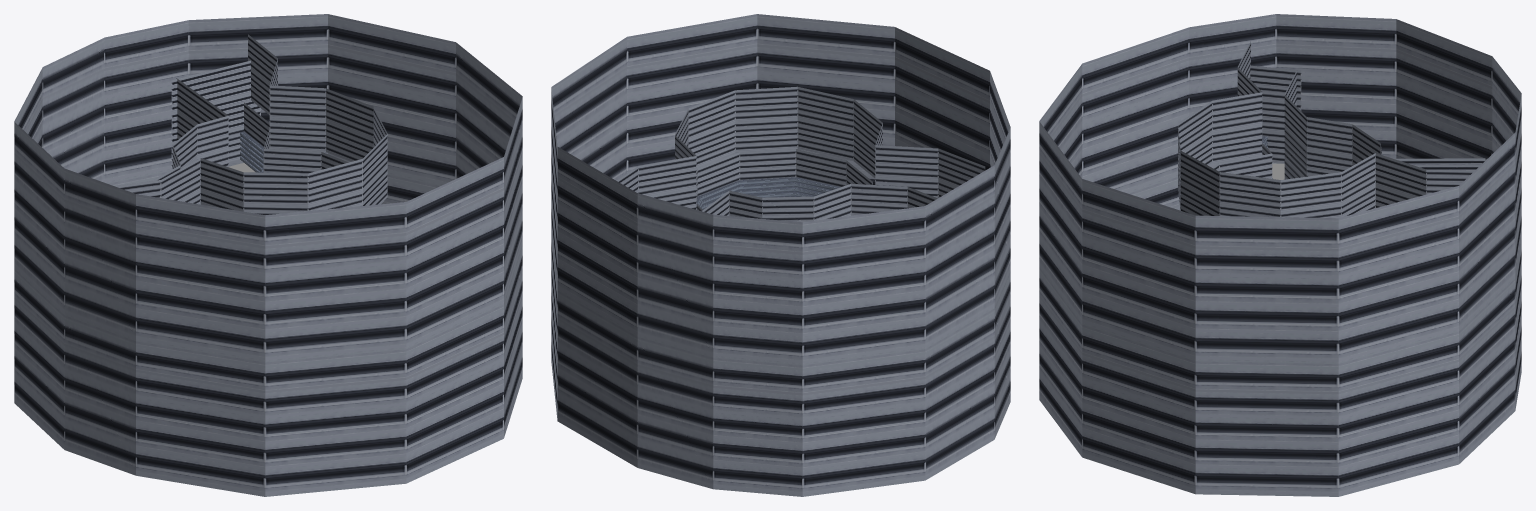
The model's file is Building_GHQ_01.FBX.
3 renders of one model, left to right at view 1: azimuth 30°, elevation 25°; view 2: azimuth 150°, elevation 25°; view 3: azimuth 270°, elevation 25°, orthographic. The views are drawn at different scales.
Visible parts, largest first — view 1: Object177, Object129, Object128, Object011; view 2: Object177, Object129, Object128, Object011; view 3: Object177, Object129, Object128.
Boxes of the visible parts, box(x1,y1,x2,y2) form: Object177: box(14, 14, 522, 496); Object129: box(115, 34, 387, 214); Object128: box(151, 60, 348, 181); Object011: box(240, 131, 263, 172); Object177: box(551, 14, 1010, 496); Object129: box(616, 86, 985, 209); Object128: box(696, 149, 937, 222); Object011: box(696, 177, 840, 209); Object177: box(1039, 14, 1521, 496); Object129: box(1178, 41, 1474, 218); Object128: box(1212, 65, 1485, 179).
Bounding box in the file's own units: 30993 × 19734 × 30945.
